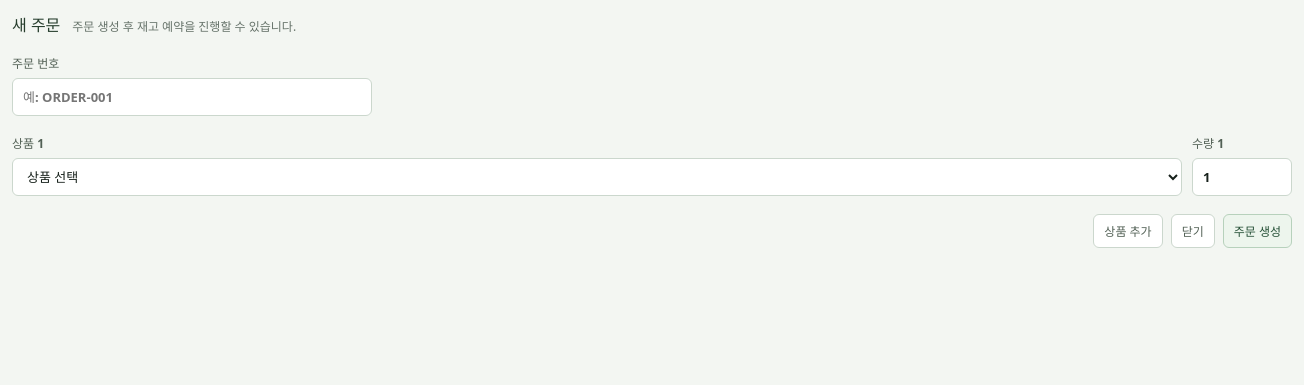
Scenario: OrderCreateForm › 빈 주문 번호와 중복 상품을 막는다
Click the button "주문 생성". click: x=1257, y=231
box: x1=1223 y1=214 x2=1292 y2=248
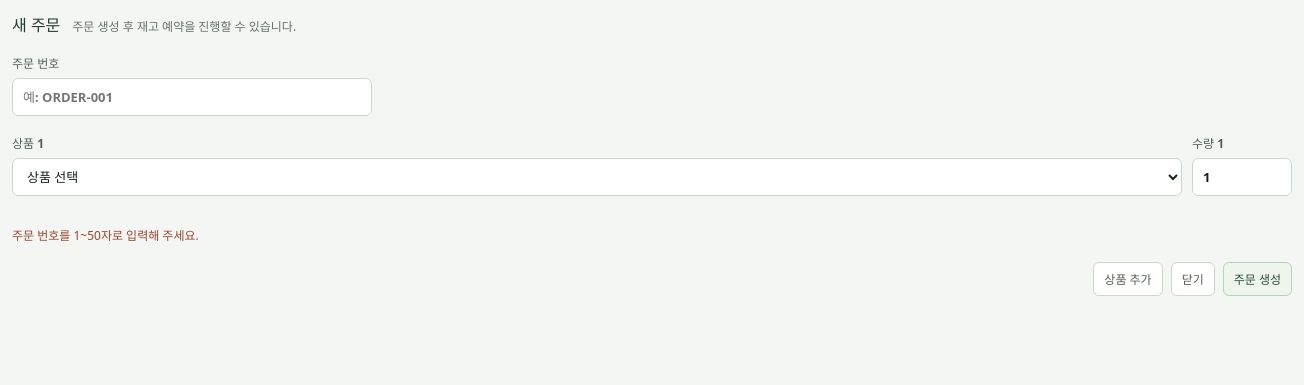
Result: the message shows "주문 번호" at x1=12 y1=227 x2=199 y2=244
Type "ORD-001" into the field labelled "주문 번호". click: x=192, y=97
box: x1=12 y1=78 x2=372 y2=116
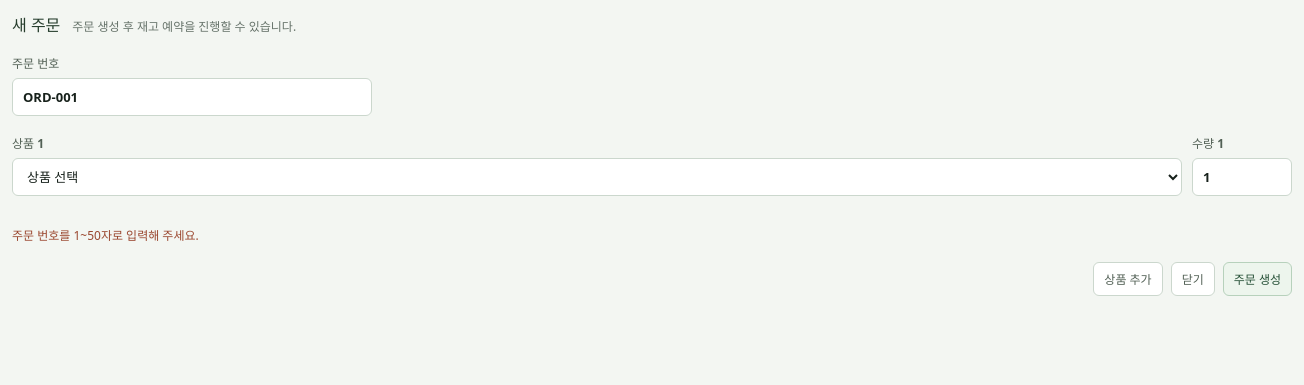
Select "SKU-001 · 키보드" in the dropdown labelled "상품 1". click: x=597, y=177
box: x1=12 y1=158 x2=1182 y2=196
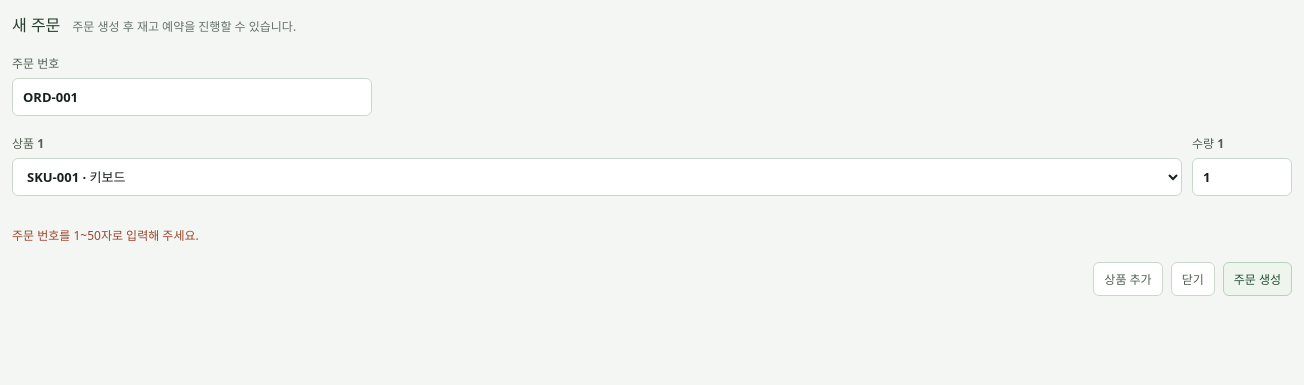
Click the button "상품 추가". click: x=1128, y=279
box: x1=1093 y1=262 x2=1163 y2=296
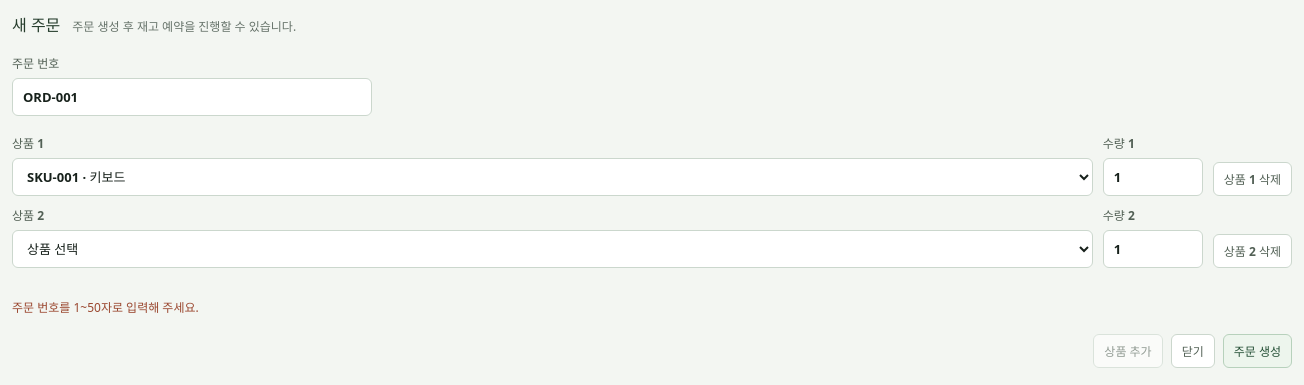
Select "SKU-001 · 키보드" in the dropdown labelled "상품 2". click: x=552, y=249
box: x1=12 y1=230 x2=1093 y2=268
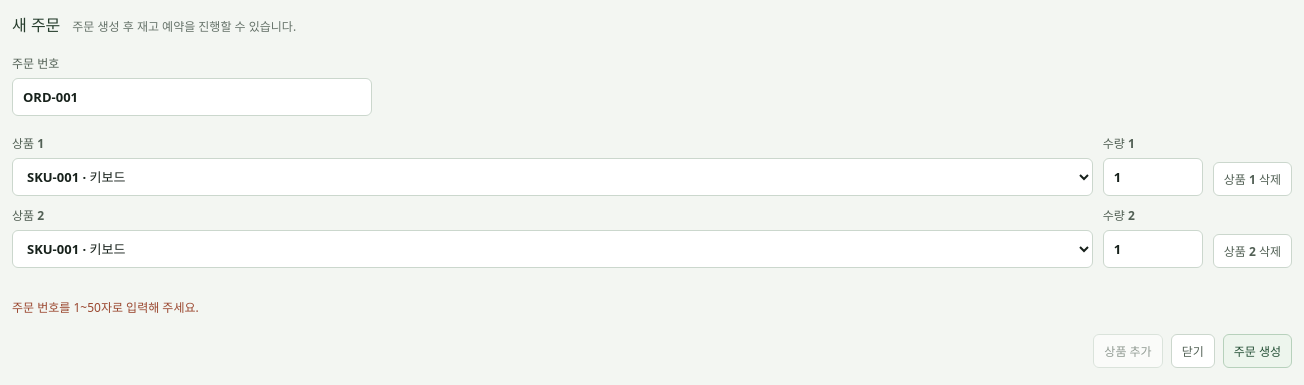
Click the button "주문 생성". click: x=1257, y=351
box: x1=1223 y1=334 x2=1292 y2=368
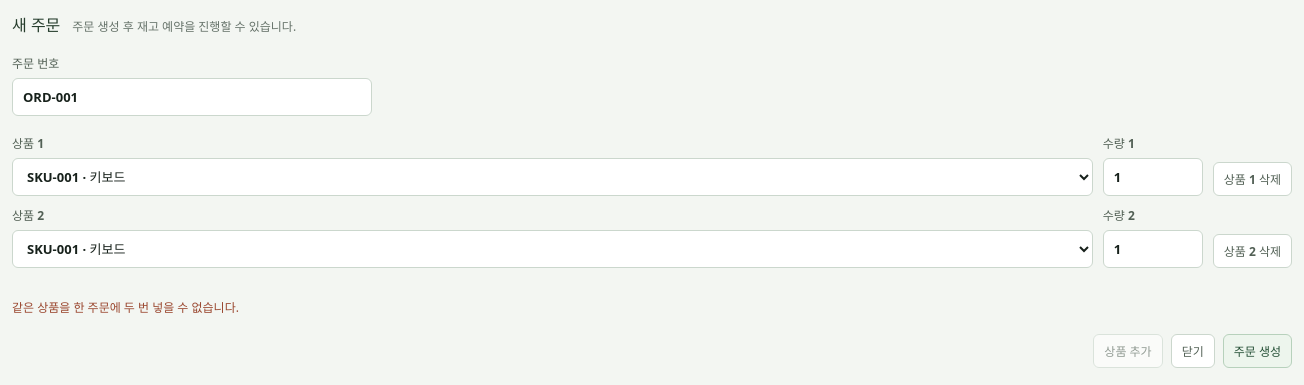
Result: the message shows "같은 상품" at x1=12 y1=299 x2=239 y2=316
